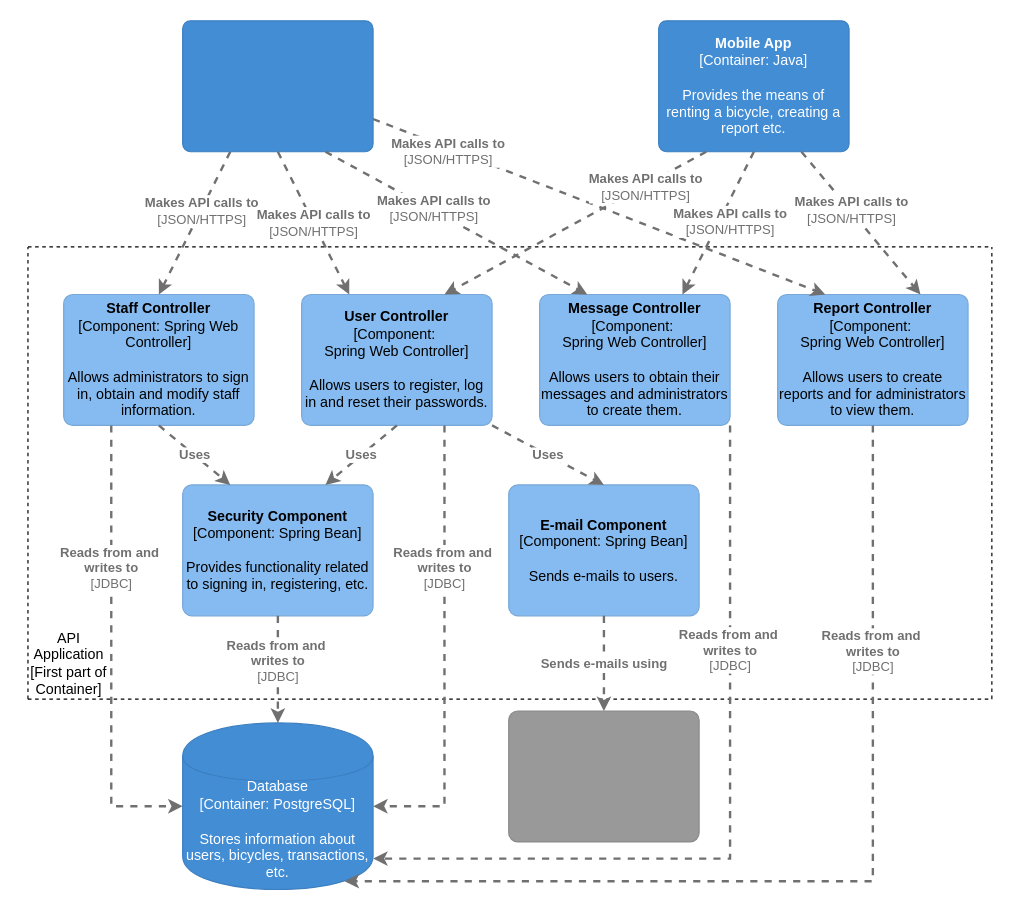
The diagram is 1014 pixels wide and 913 high, and some of its shapes have lost their labels. Each missing label, with the centre of its shape:
Desktop Application [Container: JavaFX ] Provides the means of administration.: pixel 277 86
E-mail System [Software System] The e-mail system.: pixel 603 776
